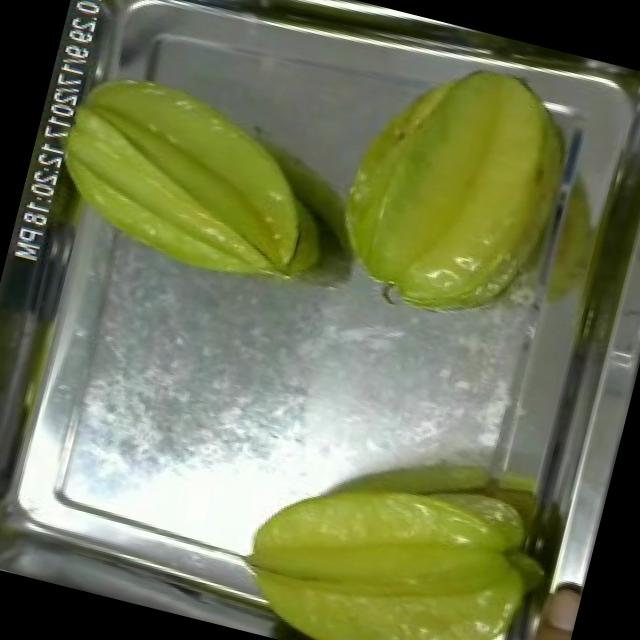fruit: (304, 25, 606, 350), (34, 50, 340, 301), (224, 428, 566, 640)
